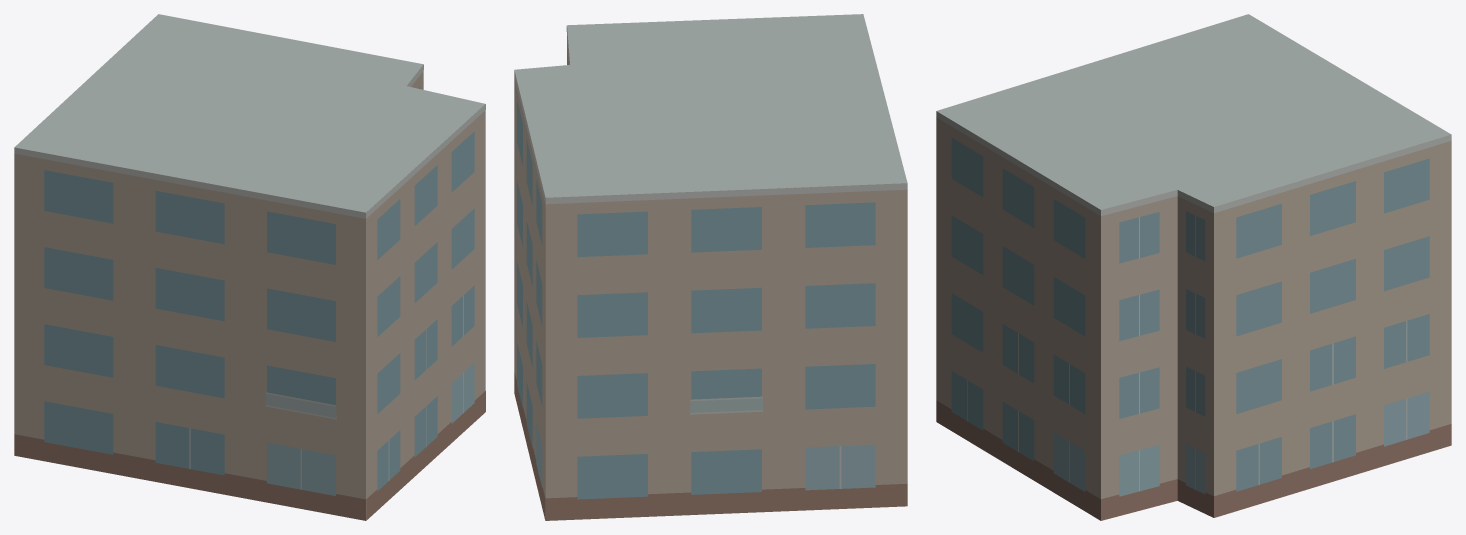
Rendered from survey-upis-32942275.glb.
3 views of the same model, side by side, from view 1: azimuth 30°, elevation 25°; view 2: azimuth 150°, elevation 25°; view 3: azimuth 270°, elevation 25° (orthographic). The views are drawn at different scales.
Visible parts, largest first — view 1: survey-upis-32942275.tmp; view 2: survey-upis-32942275.tmp; view 3: survey-upis-32942275.tmp.
Part boxes in pixels (x1,y1,x2,y2): survey-upis-32942275.tmp: (14,14,485,520); survey-upis-32942275.tmp: (514,14,907,520); survey-upis-32942275.tmp: (936,14,1451,520).
Size of the model in its own units: 16.5 by 12.2 by 18.34.
